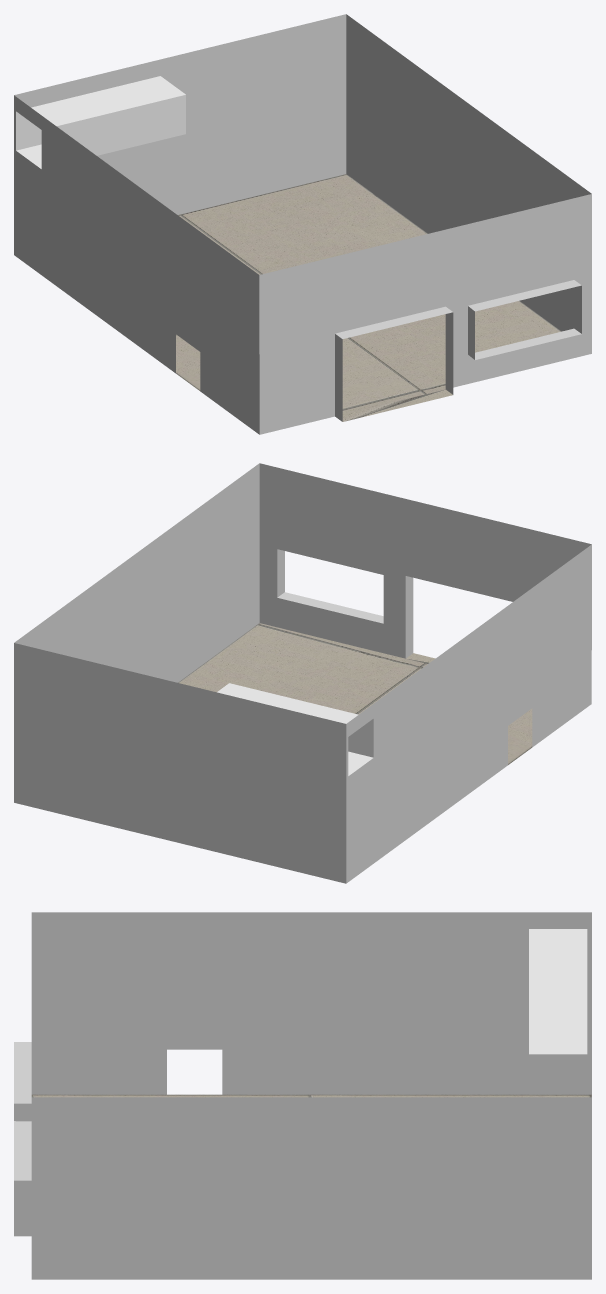
The model's file is Laboratory38WallFloor.fbx.
3 views of the same model, one above another, from view 1: azimuth 30°, elevation 25°; view 2: azimuth 150°, elevation 25°; view 3: azimuth 270°, elevation 25° (orthographic). The views are drawn at different scales.
Visible parts, largest first — view 1: Laboratory38Wall, Laboratory38Floor; view 2: Laboratory38Wall, Laboratory38Floor; view 3: Laboratory38Wall, Laboratory38Floor.
Boxes of the visible parts, box(x1,y1,x2,y2) form: Laboratory38Wall: box(14, 14, 591, 434); Laboratory38Floor: box(176, 174, 561, 421); Laboratory38Wall: box(14, 463, 591, 883); Laboratory38Floor: box(178, 623, 532, 764); Laboratory38Wall: box(14, 912, 591, 1279); Laboratory38Floor: box(31, 1094, 591, 1097).
Size of the model in its own units: 1501 by 690 by 1980.
